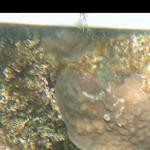alive: (2, 11, 148, 149)
